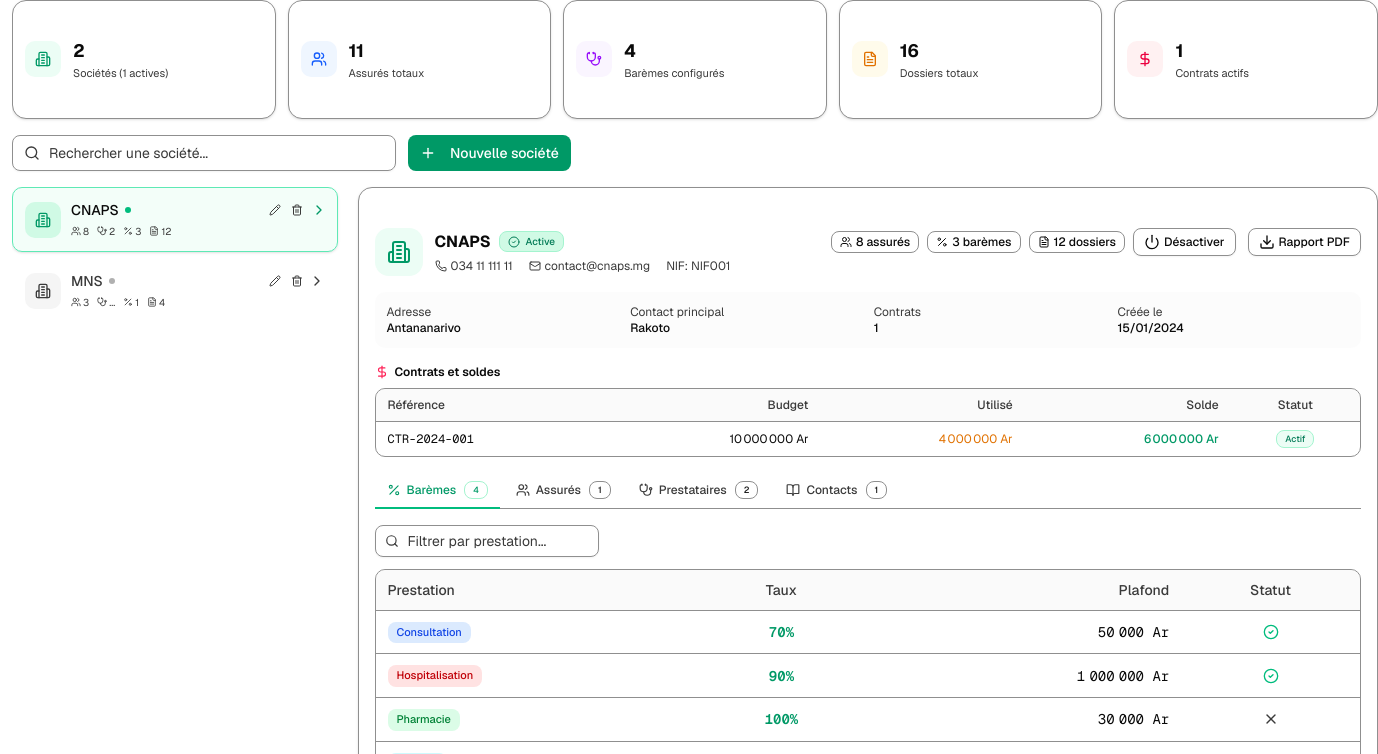
SocietesView — caractérisation › onglet Prestataires : stats actifs/inactifs et tableau
Click the button "Prestataires 2" at (699, 490), box [627,472,770,508]
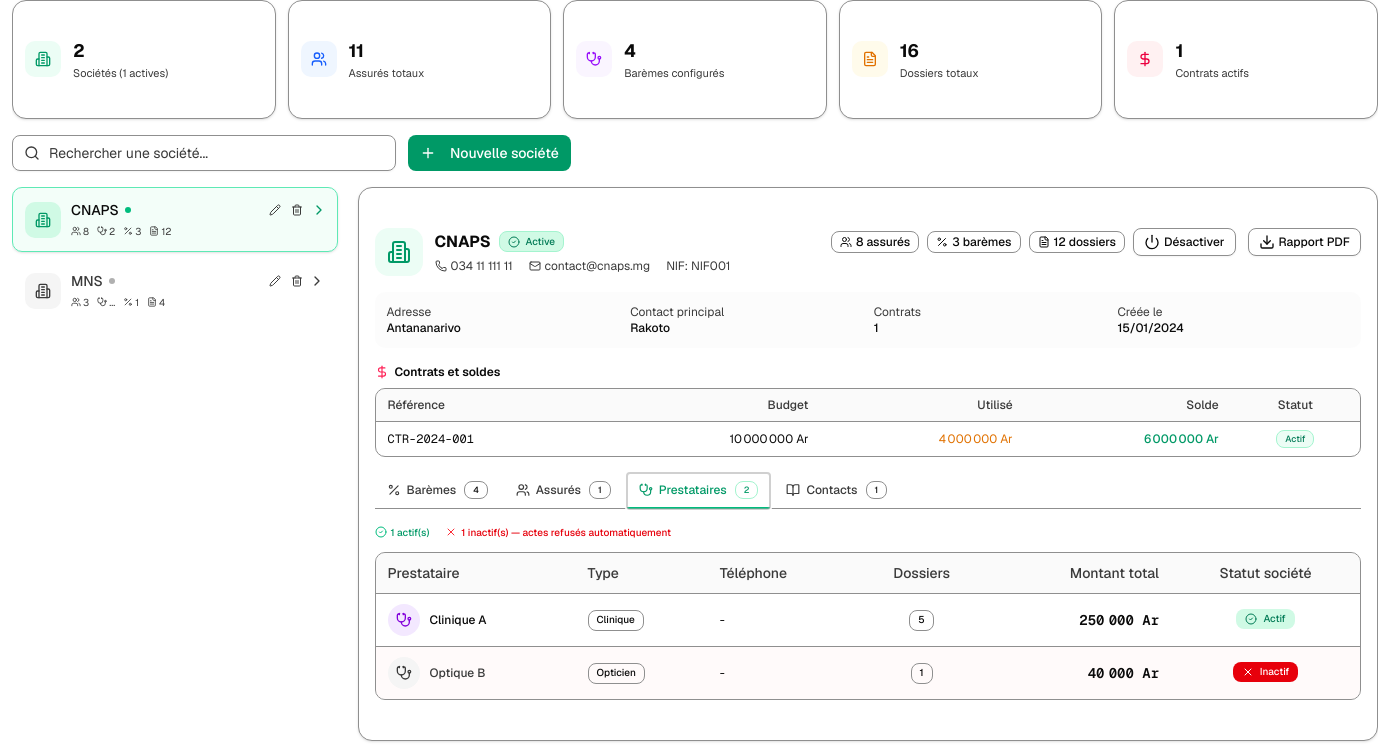
Now the text "1 actif(s)" is shown, box [390,524,429,540]
Now the text "1 inactif(s) — actes refusés automatiquement" is shown, box [461,524,671,540]
Now the text "Clinique A" is shown, box [430,612,487,628]
